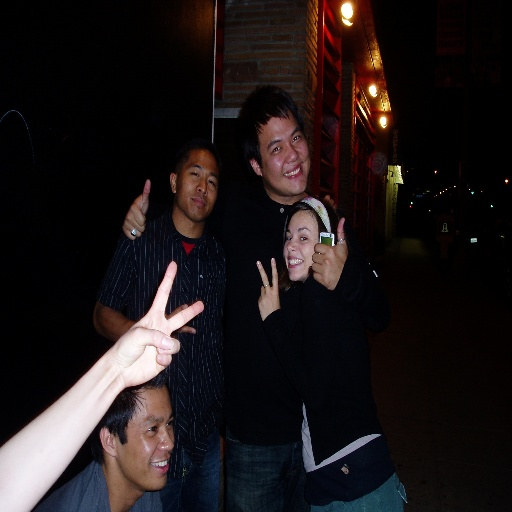hand: (29, 273, 212, 458), (312, 217, 349, 293), (120, 178, 151, 241), (255, 257, 281, 322), (165, 301, 197, 337)
